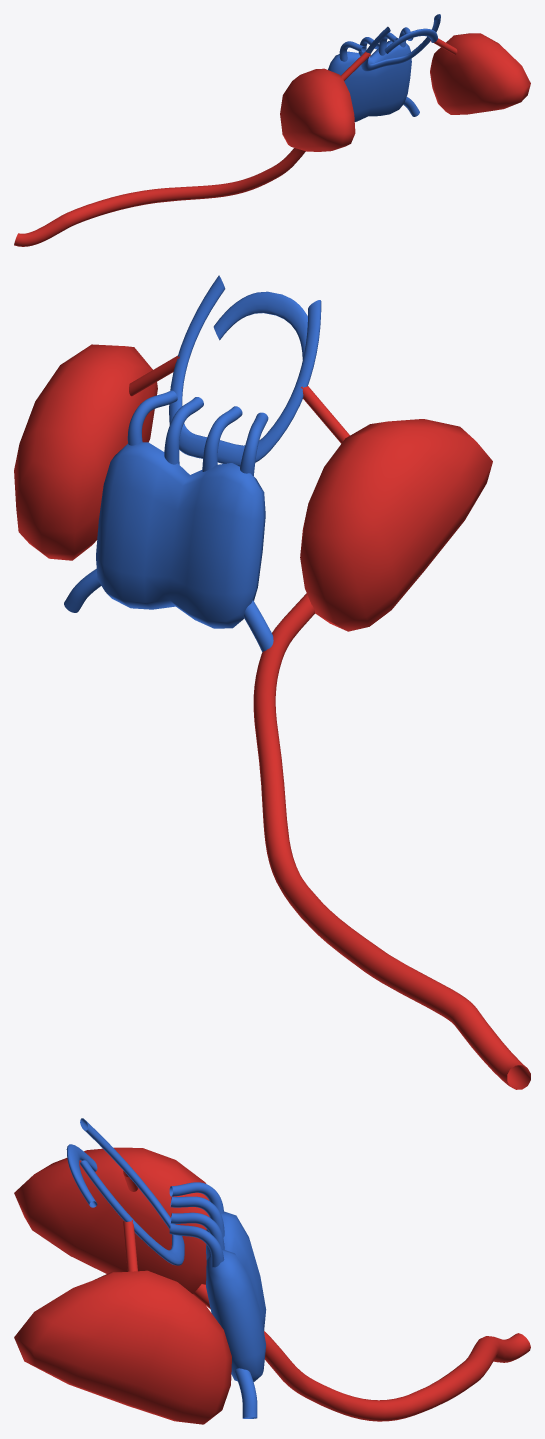
The model's file is circulatorio-inferior-petrosal-sinus-r.glb.
The picture shows the model from 3 angles, top to bottom: view 1: azimuth 30°, elevation 25°; view 2: azimuth 150°, elevation 25°; view 3: azimuth 270°, elevation 25°; orthographic projection. The views are drawn at different scales.
Parts seen in each view (by area): view 1: Cavernous sinus.l, Cavernous sinus.r, Basilar venous plexus, Inferior petrosal sinus.r, Posterior intercavernous sinus, Anterior intercavernous sinus; view 2: Basilar venous plexus, Cavernous sinus.r, Cavernous sinus.l, Inferior petrosal sinus.r, Posterior intercavernous sinus, Anterior intercavernous sinus; view 3: Cavernous sinus.l, Cavernous sinus.r, Basilar venous plexus, Inferior petrosal sinus.r, Posterior intercavernous sinus, Anterior intercavernous sinus.
Part boxes in pixels (left/top/right/bottom): Cavernous sinus.l: left=430, top=33, right=530, bottom=114; Cavernous sinus.r: left=280, top=51, right=370, bottom=151; Basilar venous plexus: left=328, top=27, right=419, bottom=121; Inferior petrosal sinus.r: left=14, top=148, right=305, bottom=246; Posterior intercavernous sinus: left=361, top=14, right=440, bottom=71; Anterior intercavernous sinus: left=384, top=28, right=437, bottom=53; Basilar venous plexus: left=64, top=390, right=273, bottom=652; Cavernous sinus.r: left=300, top=386, right=492, bottom=631; Cavernous sinus.l: left=14, top=344, right=179, bottom=560; Inferior petrosal sinus.r: left=253, top=593, right=530, bottom=1089; Posterior intercavernous sinus: left=169, top=275, right=321, bottom=466; Anterior intercavernous sinus: left=213, top=291, right=307, bottom=359; Cavernous sinus.l: left=14, top=1220, right=231, bottom=1424; Cavernous sinus.r: left=14, top=1147, right=209, bottom=1293; Basilar venous plexus: left=169, top=1182, right=266, bottom=1418; Inferior petrosal sinus.r: left=193, top=1284, right=530, bottom=1421; Posterior intercavernous sinus: left=80, top=1118, right=184, bottom=1265; Anterior intercavernous sinus: left=66, top=1144, right=97, bottom=1207.
Size of the model in its own units: 0.0646 by 0.0427 by 0.0468.
